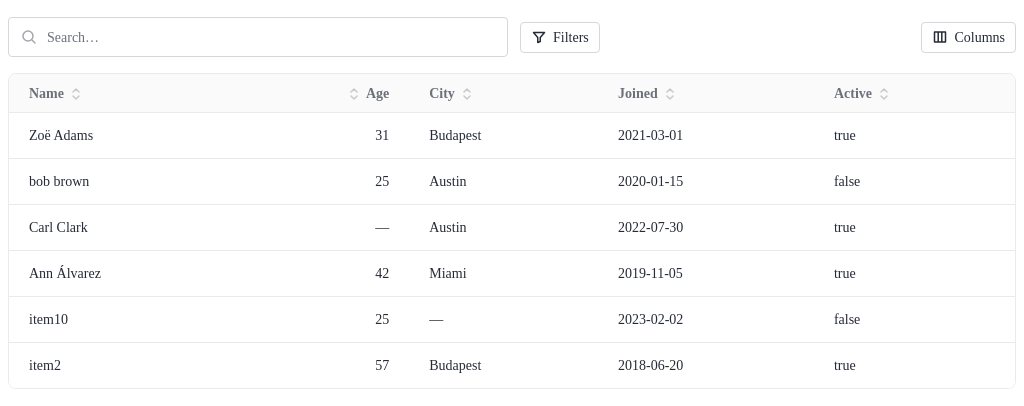
Test: provider defaults › clear button in the search input
In the search field: (270, 37) [45,26,495,48], type "bob"
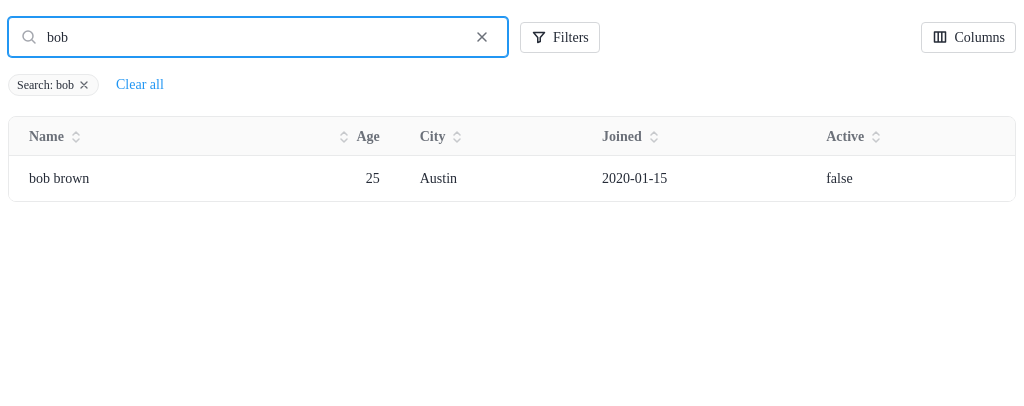
Click the button named "Clear search": (482, 37) [469,24,495,50]
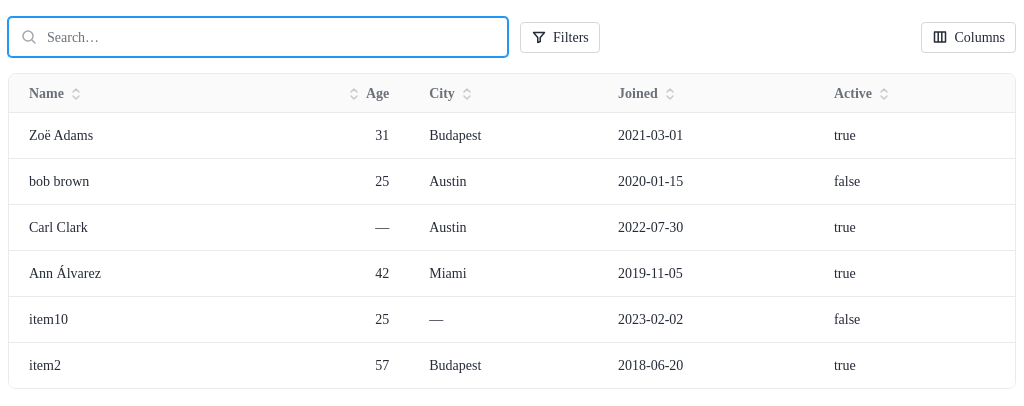
Result: the search field is empty at [45,26,495,48]
